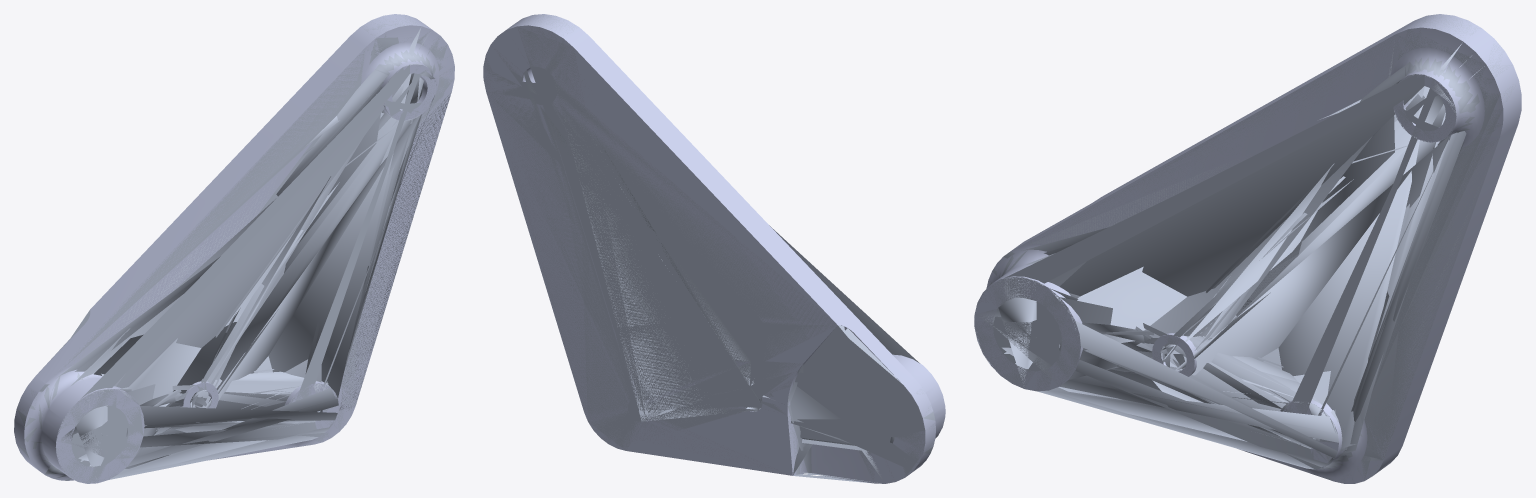
Rendered from UA_26_Suspension_Assembly__UA_26_Rear_Rockers_Assy_3.dae.
3 renders of one model, left to right at view 1: azimuth 30°, elevation 25°; view 2: azimuth 150°, elevation 25°; view 3: azimuth 330°, elevation 25°, orthographic. The views are drawn at different scales.
Parts seen in each view (by area): view 1: node1, node0; view 2: node1, node0; view 3: node1, node0.
Part boxes in pixels (x1=…): node1: x1=16, y1=14, x2=453, y2=483; node0: x1=14, y1=14, x2=454, y2=483; node1: x1=483, y1=14, x2=935, y2=483; node0: x1=483, y1=14, x2=945, y2=483; node1: x1=974, y1=15, x2=1515, y2=482; node0: x1=974, y1=14, x2=1521, y2=483.
Bounding box in the file's own units: 0.0969 × 0.0854 × 0.014.
